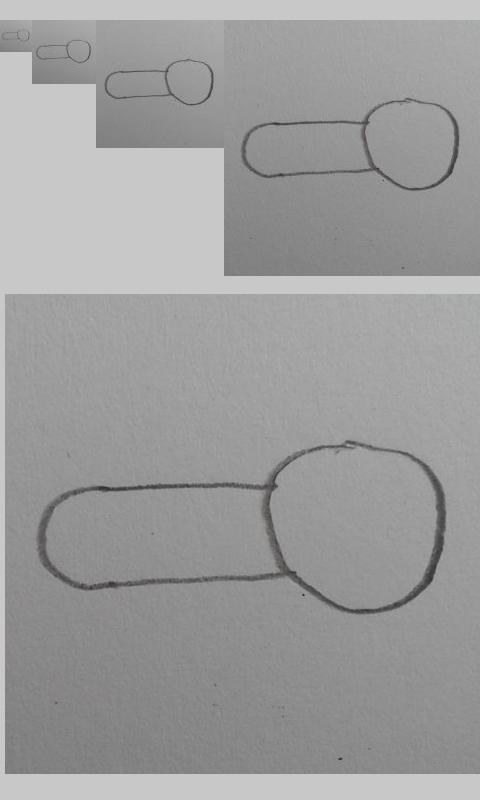switch: (34, 438, 447, 616), (241, 96, 460, 191), (104, 59, 215, 106), (36, 39, 92, 64), (1, 29, 31, 42)
